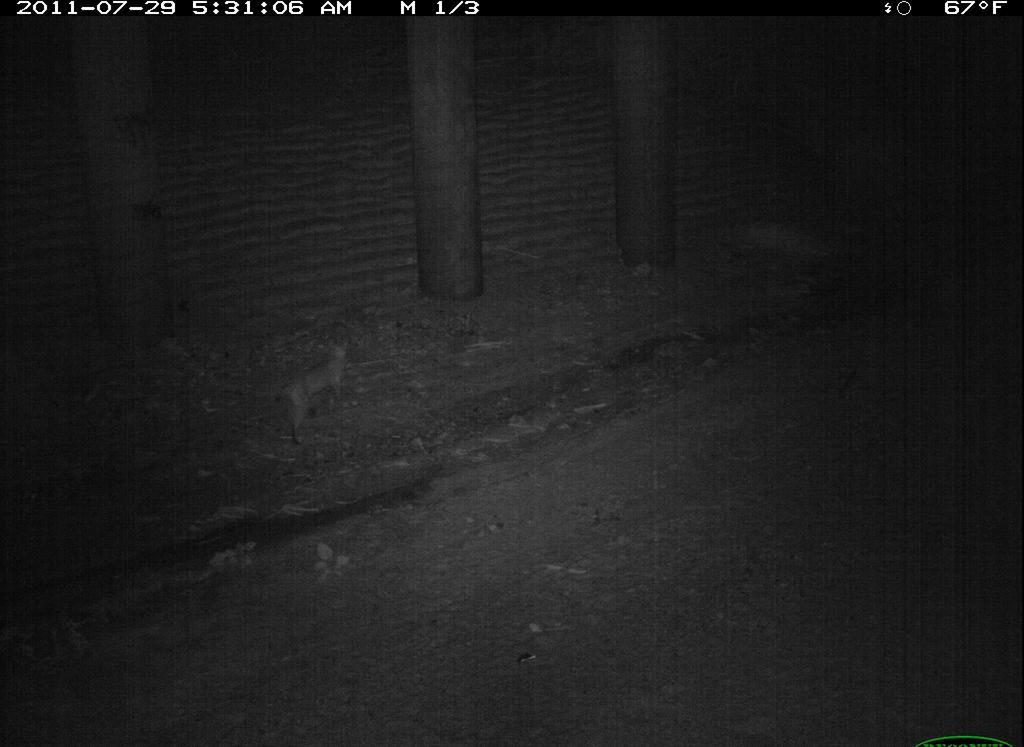bobcat: (535, 663, 715, 747)
